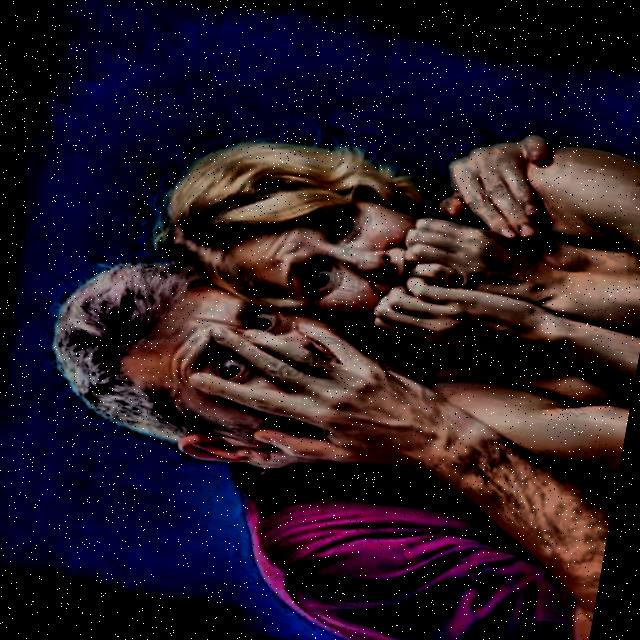fear: (23, 228, 422, 508), (130, 103, 494, 348)
